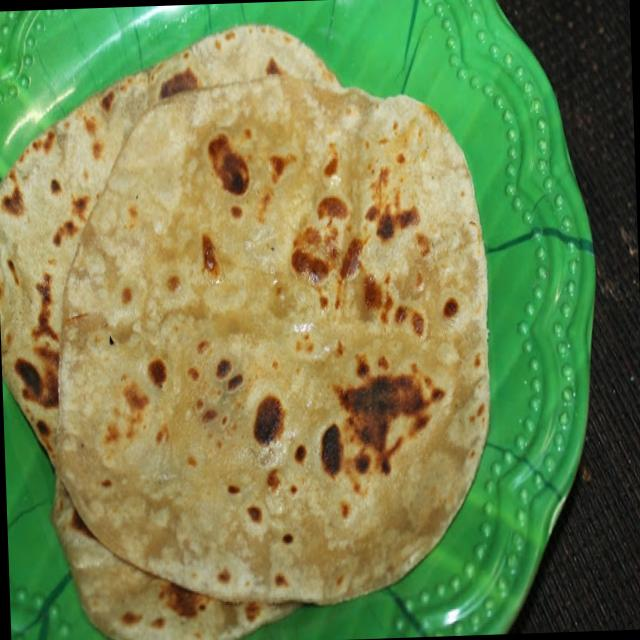roti: (0, 28, 498, 640)
